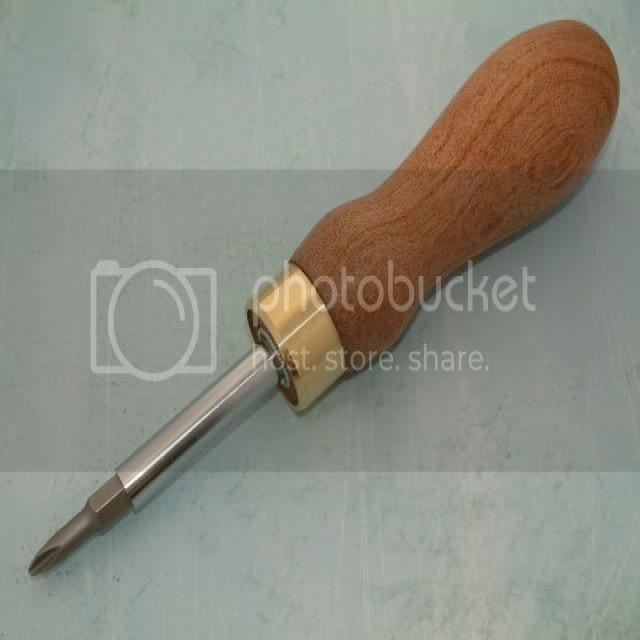screwdriver: (24, 15, 625, 588)
